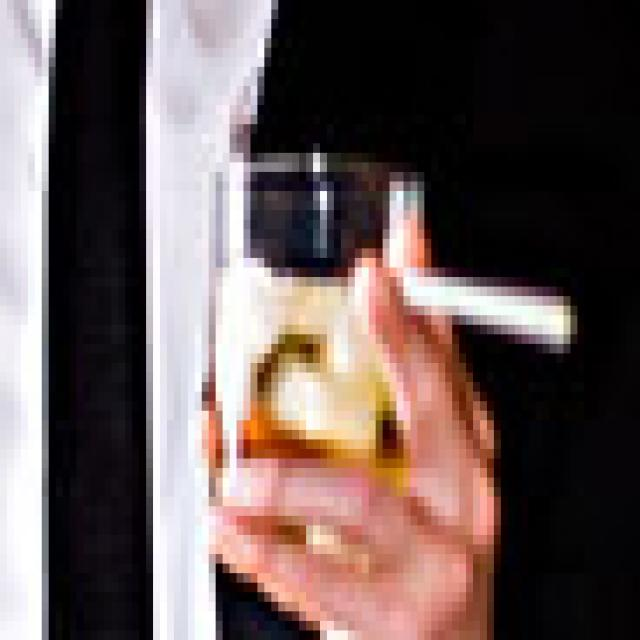smoking: (398, 281, 577, 356)
